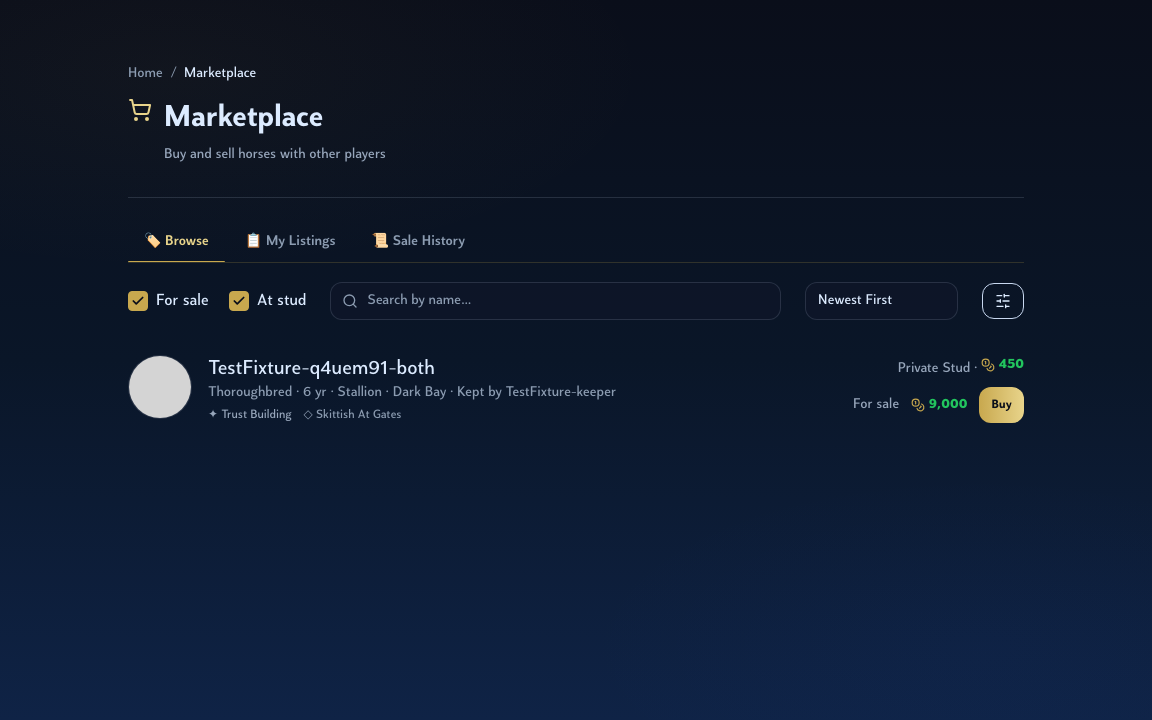
it: Marketplace all-horses search (Equoria-q4uem.9.1) › unticking a box narrows the search; unticking both asks for a tick and sends nothing
The image size is (1152, 720).
Expected: the link "TestFixture-q4uem91-both" is shown, x1=208 y1=359 x2=435 y2=379
What coordinates should you click on to do the following:
click the checkbox named "stallions at stud"
I would click on:
 (239, 301)
Its box is x1=229 y1=291 x2=249 y2=311.
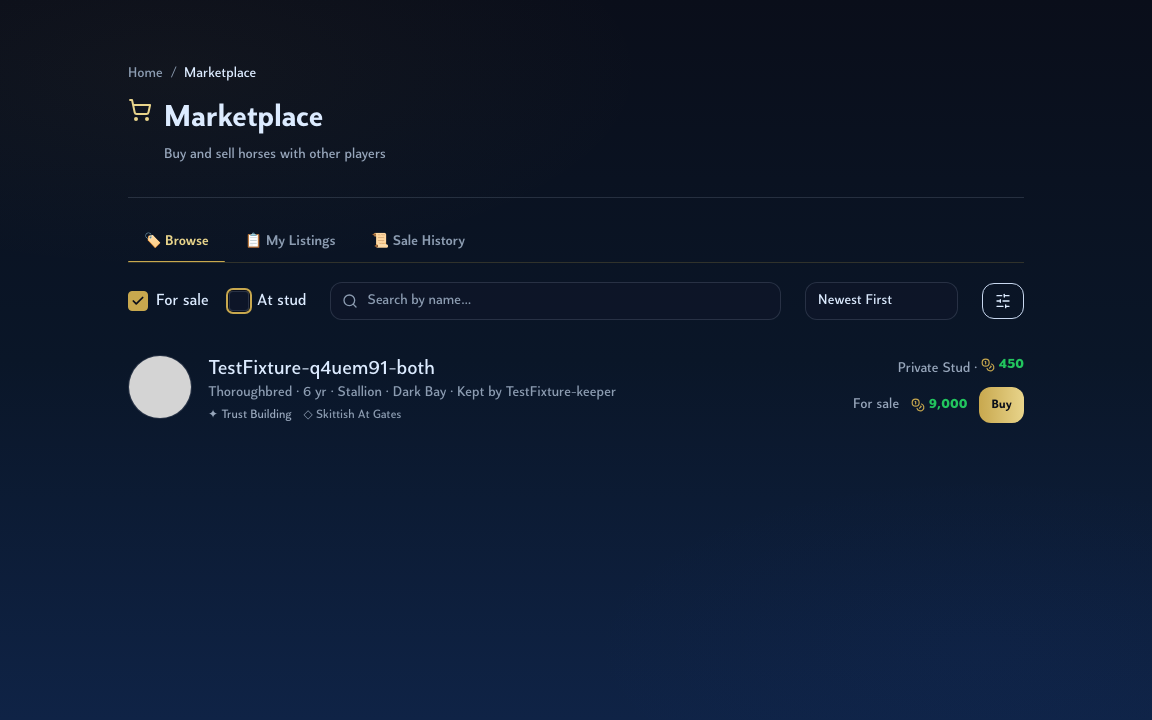
What coordinates should you click on to do the following:
click the checkbox named "horses for sale"
I would click on:
 (138, 301)
Its box is x1=128 y1=291 x2=148 y2=311.
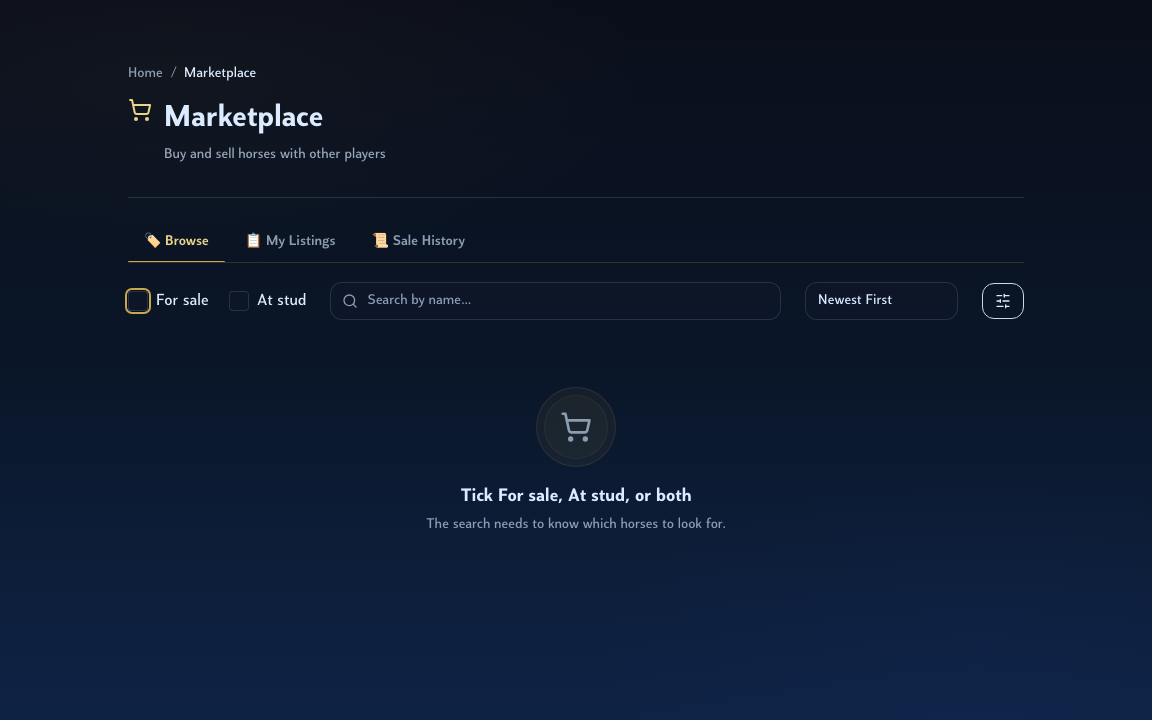
Expected: the heading "Tick For sale, At stud, or both" is shown, x1=460 y1=483 x2=691 y2=510
